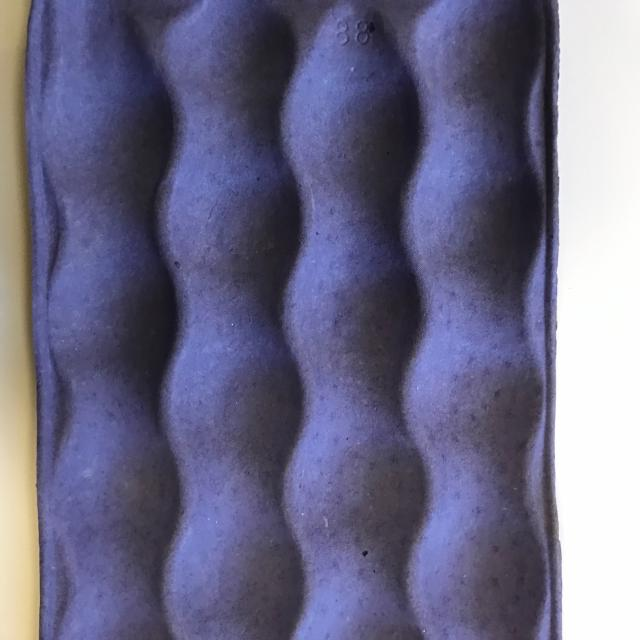paper: (6, 0, 629, 640)
